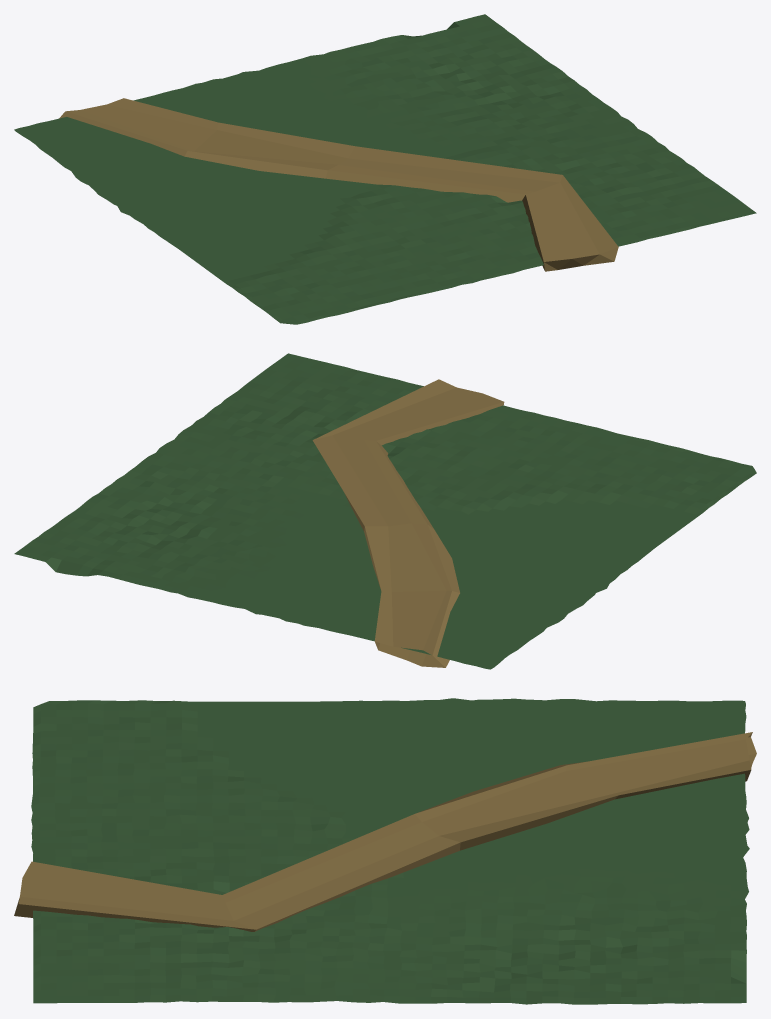
The model's file is athili_copse_section10.glb.
The picture shows the model from 3 angles, top to bottom: view 1: azimuth 30°, elevation 25°; view 2: azimuth 150°, elevation 25°; view 3: azimuth 270°, elevation 25°; orthographic projection. The views are drawn at different scales.
Parts seen in each view (by area): view 1: Grass, Road; view 2: Grass, Road; view 3: Grass, Road.
Boxes of the visible parts, box(x1,y1,x2,y2) form: Grass: box(14, 14, 756, 324); Road: box(59, 98, 618, 271); Grass: box(14, 353, 756, 669); Road: box(312, 379, 504, 667); Grass: box(31, 698, 749, 1004); Road: box(14, 732, 756, 931).
Size of the model in its own units: 59.83 by 1.82 by 61.61.
